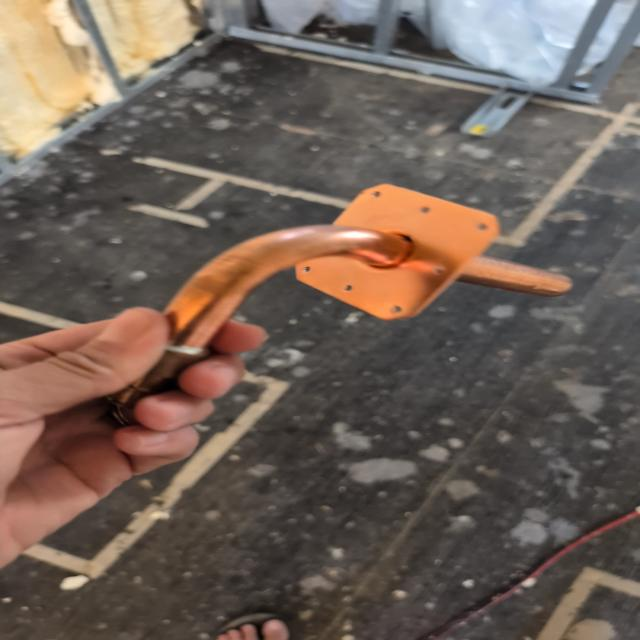wall_flange: (114, 180, 587, 425)
